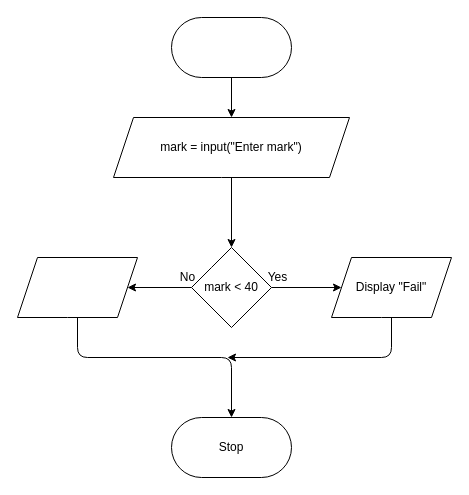
Some shapes in this 469 by 495 pixel diagram are drawn without their labels. The centre of each missing label's shape, as x and y in pixels:
Display "Pass": (77,287)
Start: (231,47)
